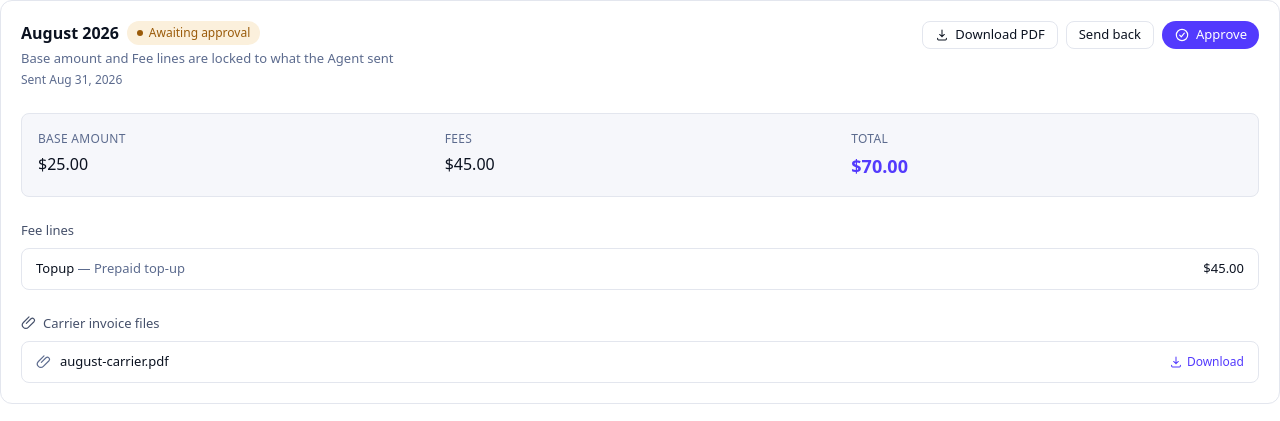
Scenario: ClientInvoiceDetailView › keeps the invoice unchanged and shows an inline error when approval fails
The image size is (1280, 421).
Click the button "Approve": (1210, 35) [1162,21,1259,49]
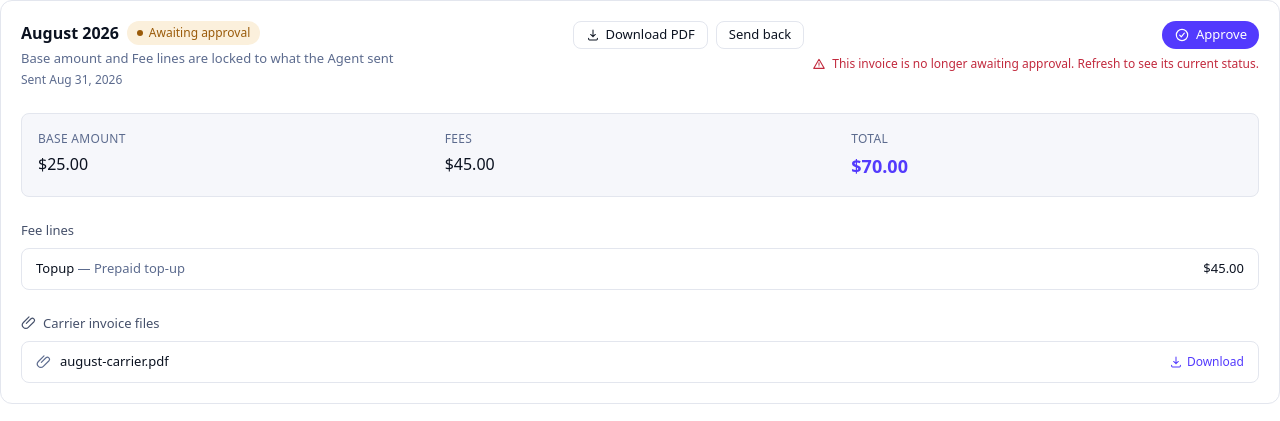
Expected: the text "Awaiting approval" is shown, [127,21,260,45]
Now the message is shown, box [812,55,1259,73]
